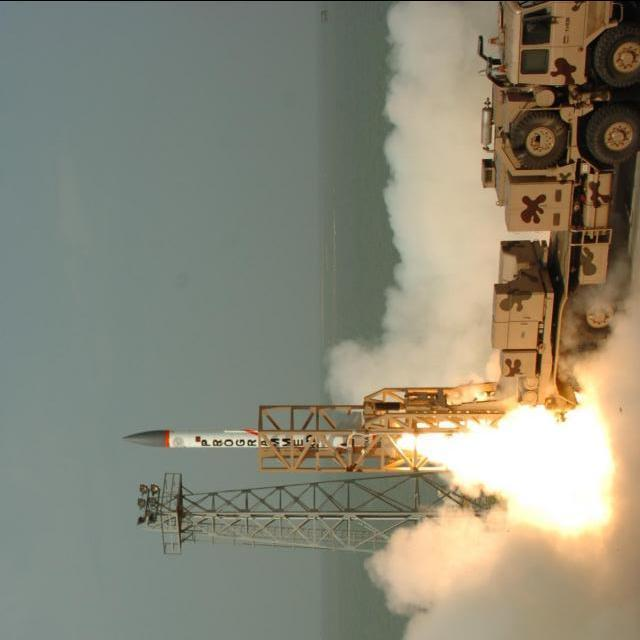Missile: (115, 425, 312, 452)
